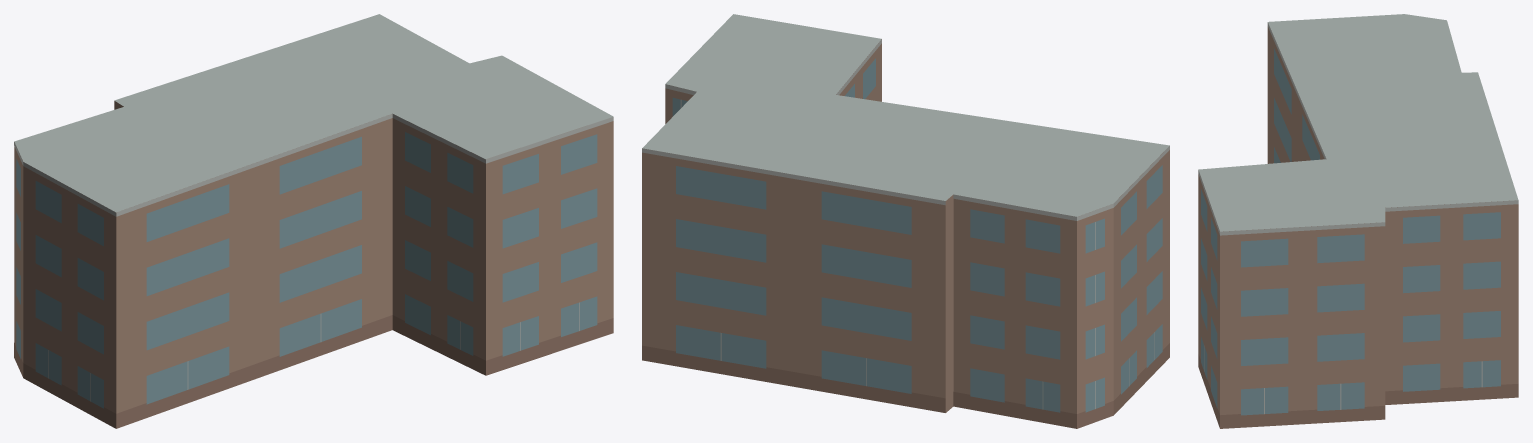
Rendered from survey-upis-32492139.glb.
3 renders of one model, left to right at view 1: azimuth 30°, elevation 25°; view 2: azimuth 150°, elevation 25°; view 3: azimuth 270°, elevation 25°, orthographic. The views are drawn at different scales.
Visible parts, largest first — view 1: survey-upis-32492139.tmp; view 2: survey-upis-32492139.tmp; view 3: survey-upis-32492139.tmp.
Part boxes in pixels (left/top/right/bottom): survey-upis-32492139.tmp: left=14, top=14, right=613, bottom=428; survey-upis-32492139.tmp: left=642, top=14, right=1169, bottom=428; survey-upis-32492139.tmp: left=1198, top=14, right=1518, bottom=428.
Size of the model in its own units: 28.87 by 12.2 by 17.96.
